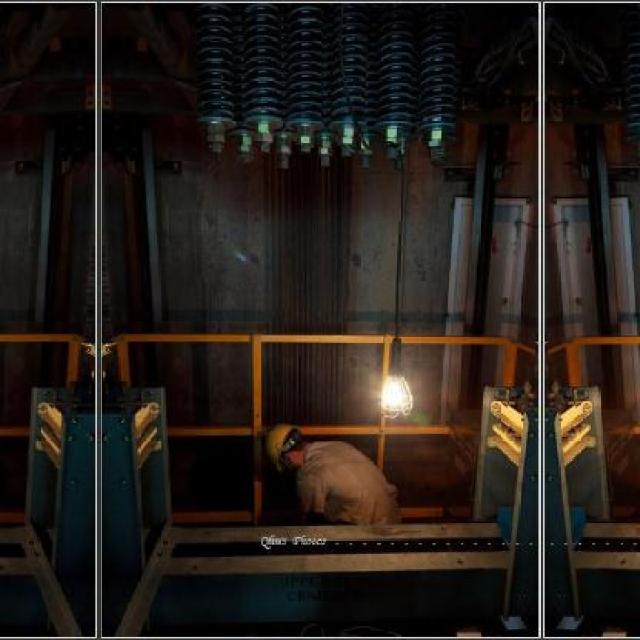helmet: (263, 418, 285, 474)
